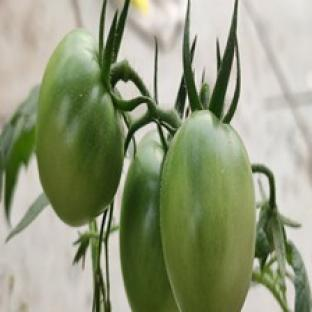Tomato: (161, 112, 254, 311), (37, 30, 123, 225), (120, 131, 178, 311)
